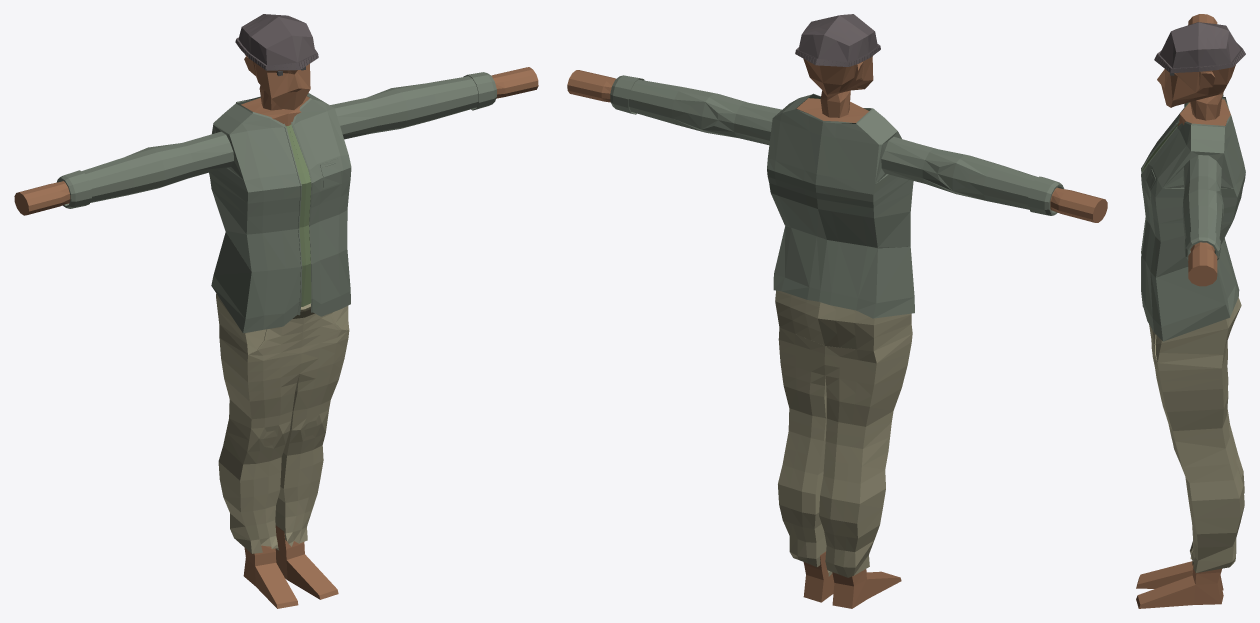
File: Male char w.fbx
3 views of the same model, side by side, from view 1: azimuth 30°, elevation 25°; view 2: azimuth 150°, elevation 25°; view 3: azimuth 270°, elevation 25° (orthographic). The views are drawn at different scales.
Parts seen in each view (by area): view 1: polySurface12; view 2: polySurface12; view 3: polySurface12.
Boxes of the visible parts, box(x1,y1,x2,y2) form: polySurface12: box(14, 14, 538, 608); polySurface12: box(567, 14, 1107, 608); polySurface12: box(1136, 14, 1245, 608).
Size of the model in its own units: 7.39 by 7.79 by 1.36.
